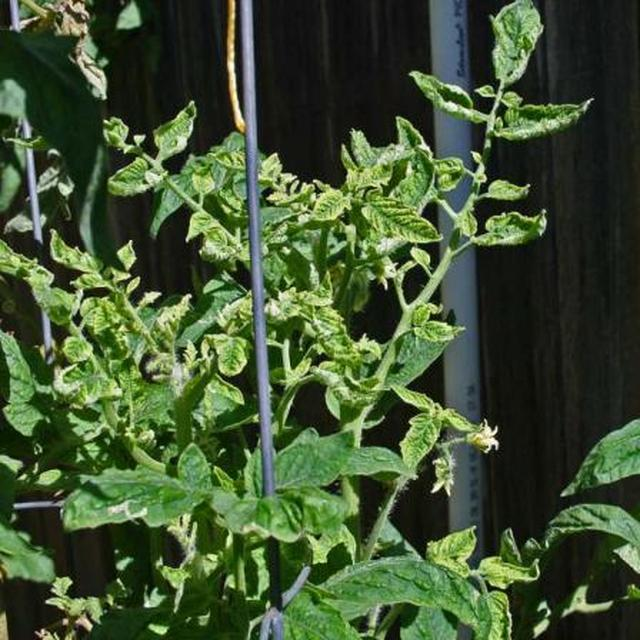Yellow Leaf Curl Virus: (39, 44, 640, 640)
